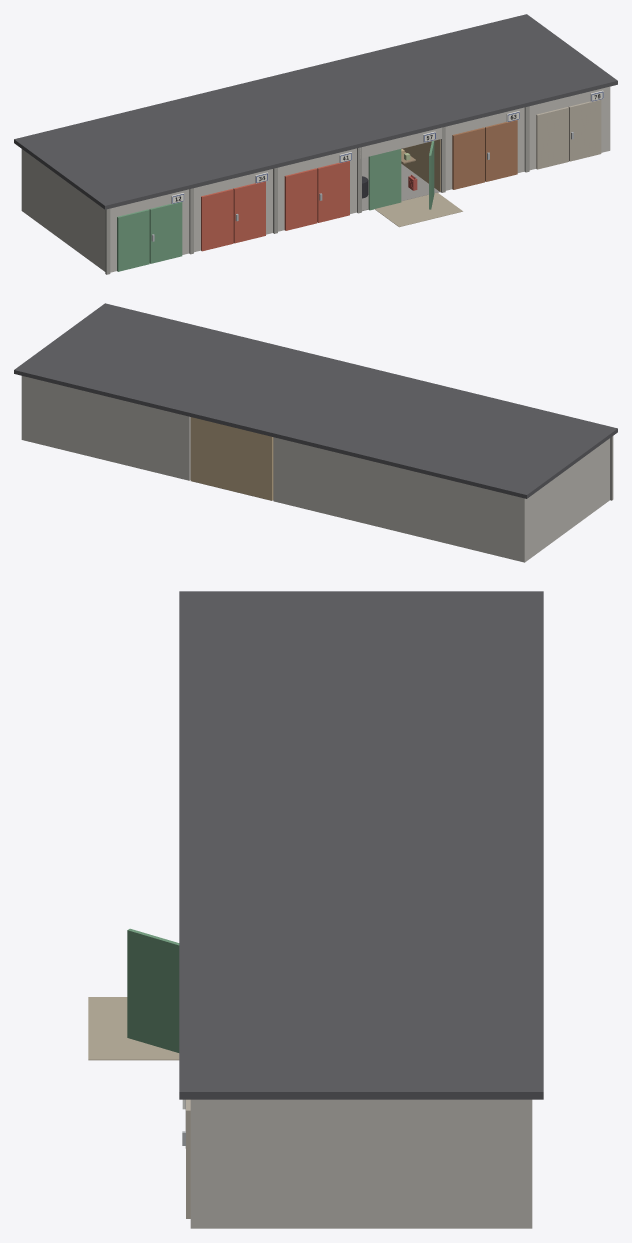
The model's file is garage_row.glb.
3 views of the same model, one above another, from view 1: azimuth 30°, elevation 25°; view 2: azimuth 150°, elevation 25°; view 3: azimuth 270°, elevation 25° (orthographic). The views are drawn at different scales.
Visible parts, largest first — view 1: garage_row; view 2: garage_row; view 3: garage_row.
Boxes of the visible parts, x1,y1,x2,y2 form: garage_row: [14, 14, 617, 274]; garage_row: [14, 303, 617, 562]; garage_row: [88, 591, 543, 1228].
Size of the model in its own units: 20.8 by 2.75 by 8.
20 materials, 1 textured.
